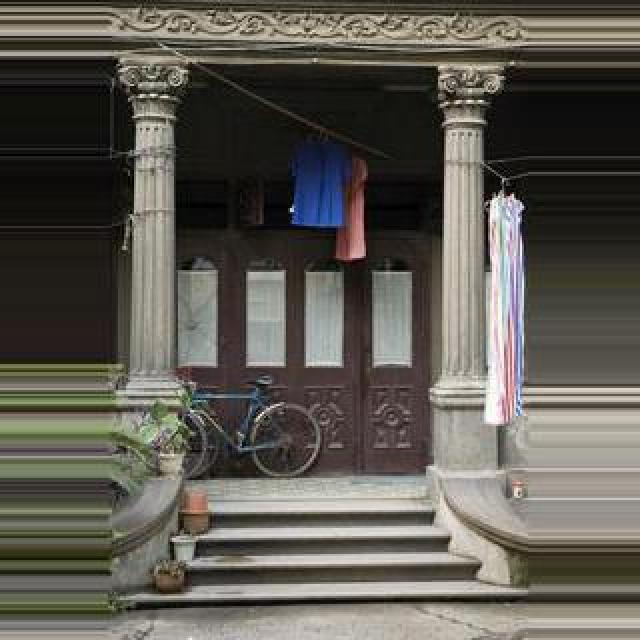Person: (173, 369, 321, 479)
